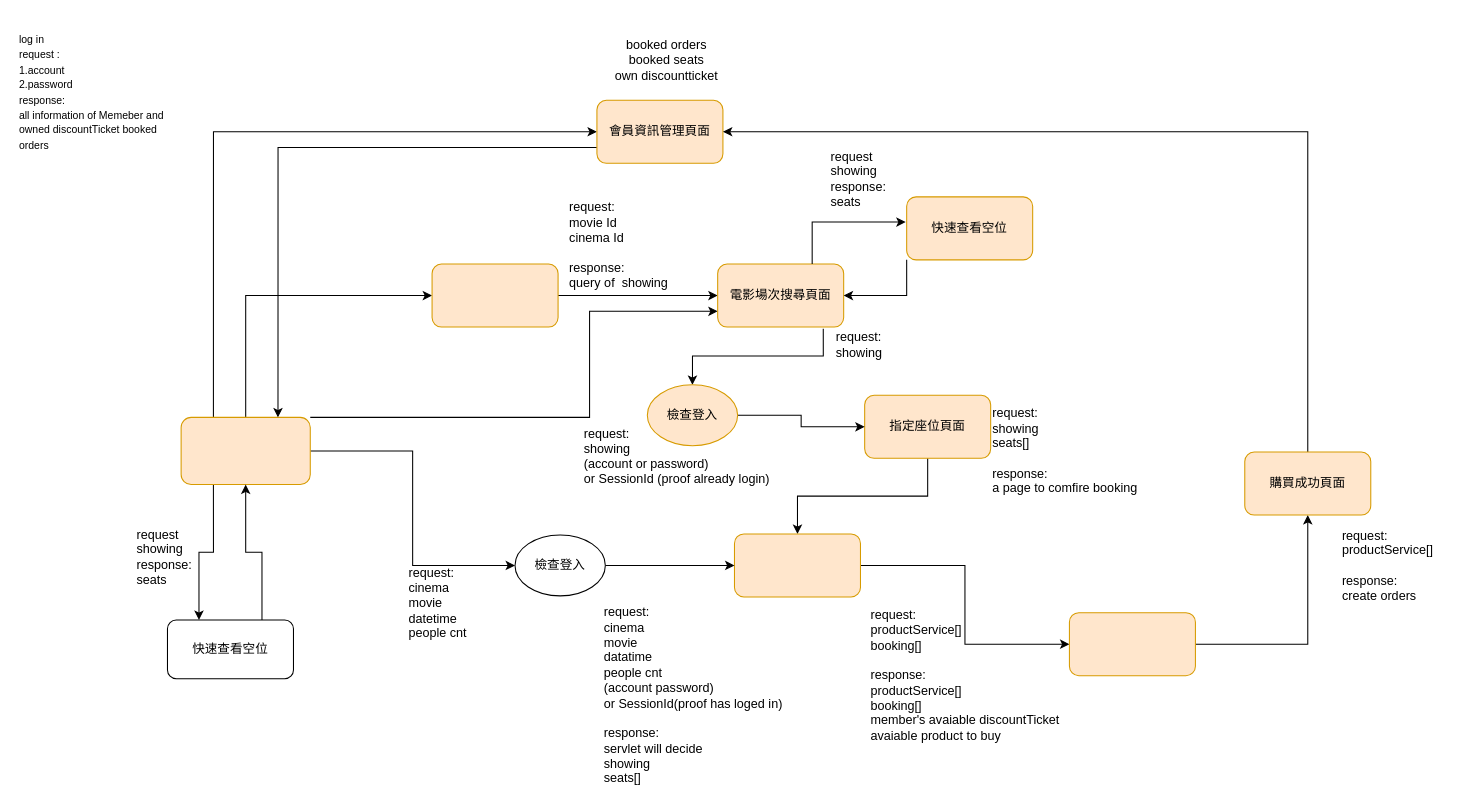
This 1468x810 diagram has some shape labels left out. Each missing label, with the centre of its shape:
"目錄主頁面" belongs at (245,450).
"訂票頁面" belongs at (796,565).
"購買頁面" belongs at (1131,644).
"電影瀏覽頁面" belongs at (494,295).
